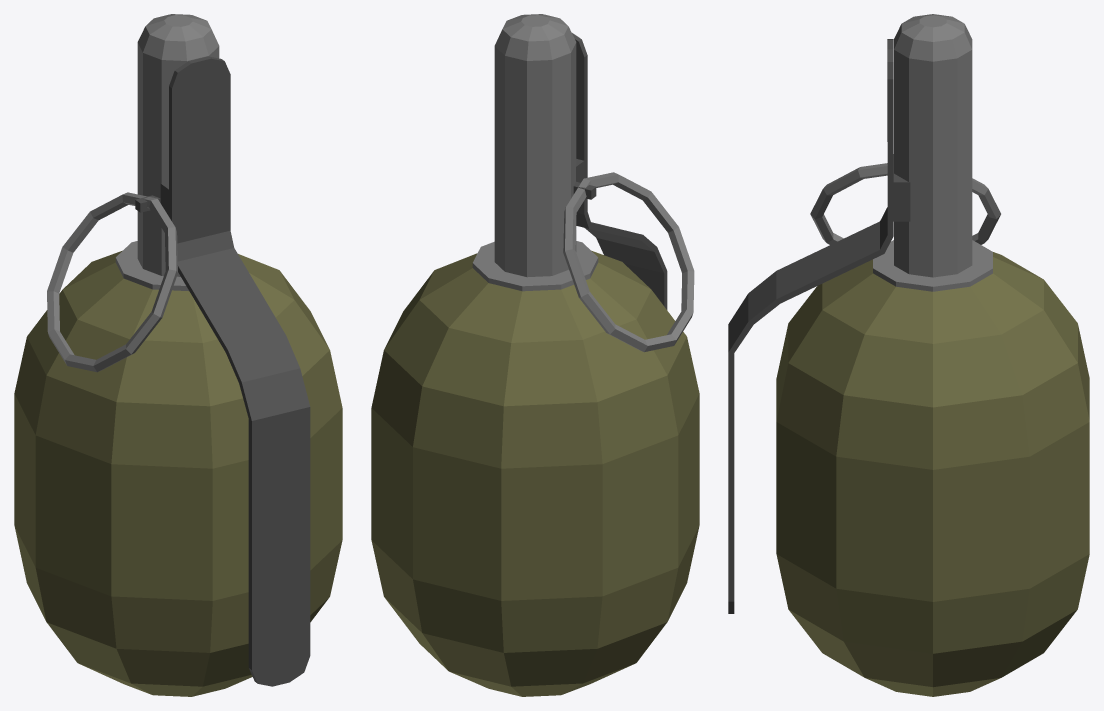
Rendered from rgd5.glb.
The picture shows the model from 3 angles, left to right: view 1: azimuth 30°, elevation 25°; view 2: azimuth 150°, elevation 25°; view 3: azimuth 270°, elevation 25°; orthographic projection.
Parts seen in each view (by area): view 1: RGD5, RGD5_Spoon, RGD5_Pin; view 2: RGD5, RGD5_Pin, RGD5_Spoon; view 3: RGD5, RGD5_Spoon, RGD5_Pin.
Boxes of the visible parts, x1,y1,x2,y2 form: RGD5: [14, 14, 342, 696]; RGD5_Spoon: [135, 56, 310, 686]; RGD5_Pin: [47, 192, 177, 372]; RGD5: [371, 14, 699, 696]; RGD5_Pin: [563, 172, 694, 352]; RGD5_Spoon: [572, 33, 667, 309]; RGD5: [776, 14, 1089, 696]; RGD5_Spoon: [728, 39, 910, 613]; RGD5_Pin: [810, 163, 1000, 244].
Size of the model in its own units: 0.0667 by 0.1474 by 0.0732.
1 material, 1 textured.
